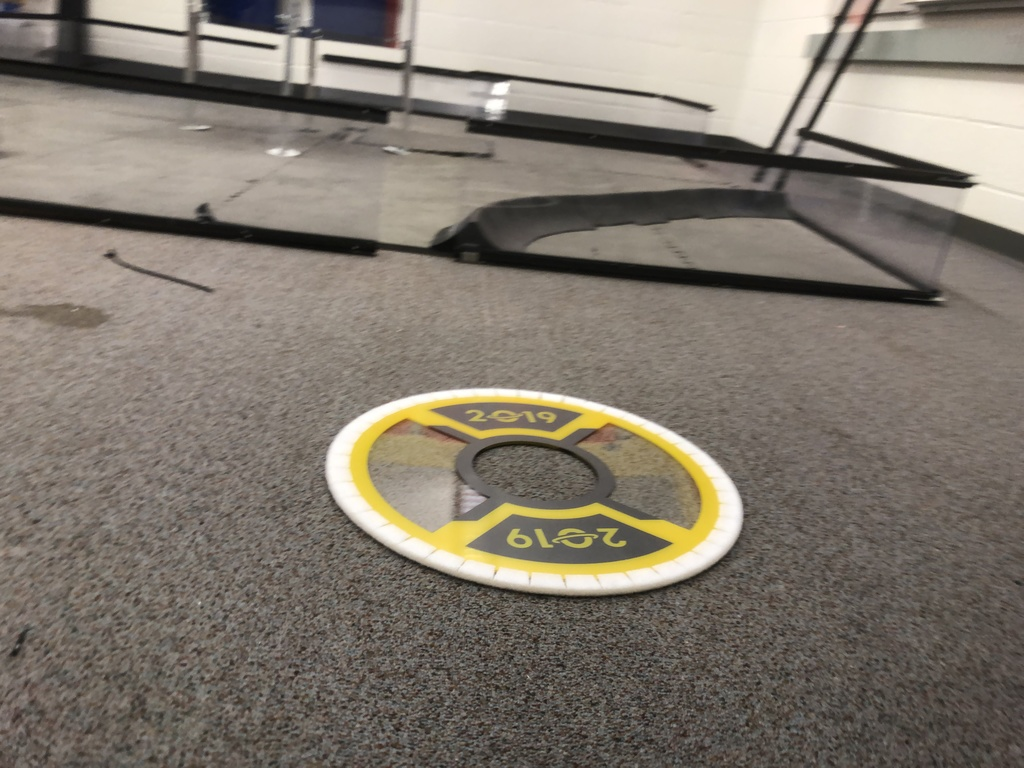hatch_panel: (316, 371, 766, 595)
